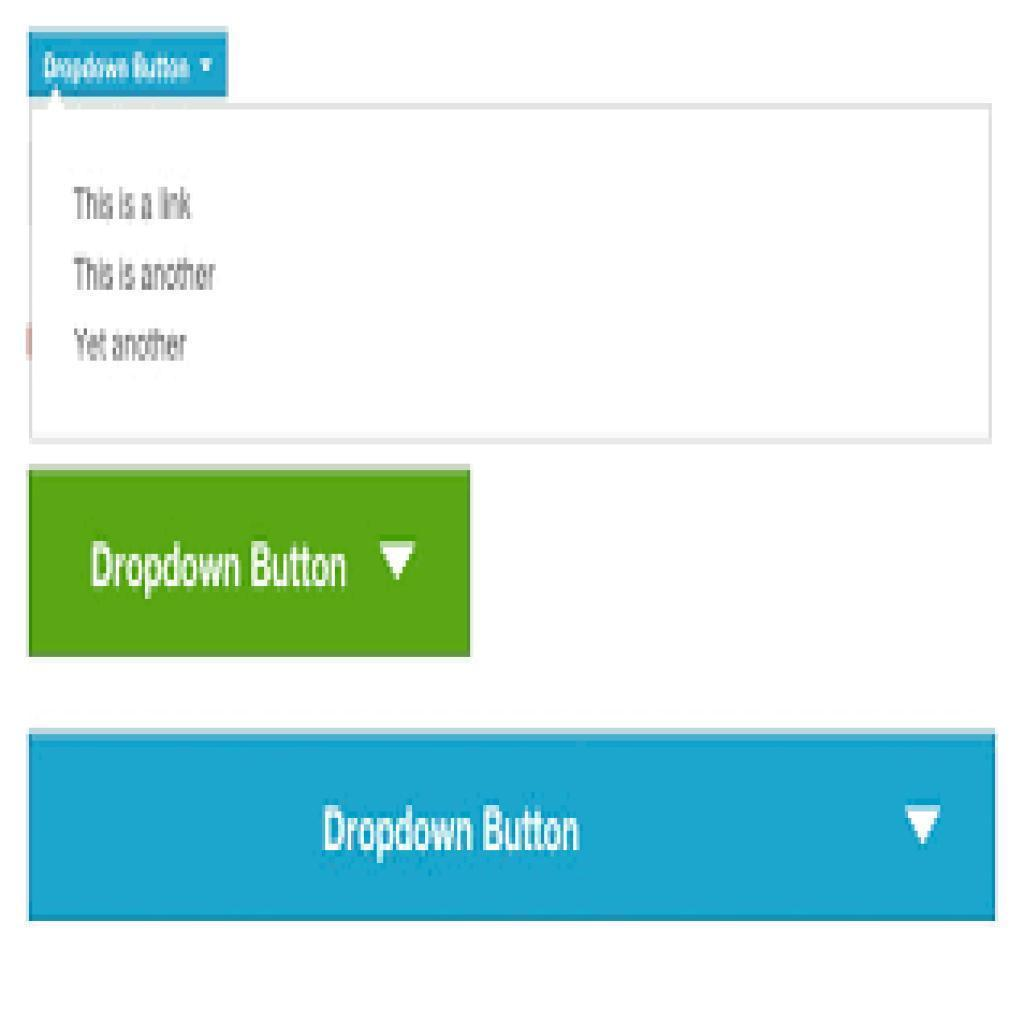dropdown: (30, 733, 997, 920), (28, 470, 468, 658), (29, 30, 227, 97)
